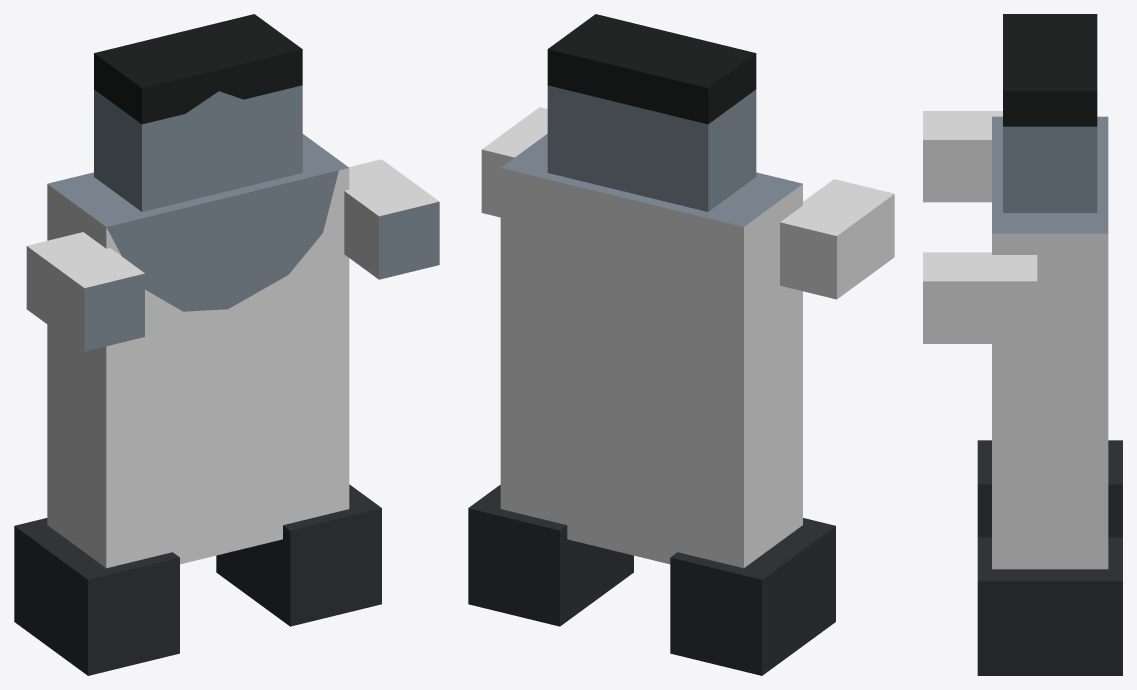
The model's file is zombie_1_textured.glb.
3 renders of one model, left to right at view 1: azimuth 30°, elevation 25°; view 2: azimuth 150°, elevation 25°; view 3: azimuth 270°, elevation 25°, orthographic.
Parts seen in each view (by area): view 1: torso, head, foot_right, foot_left, Cube, Cube.001; view 2: torso, head, foot_right, foot_left, Cube, Cube.001; view 3: torso, head, foot_left, Cube.001, Cube, foot_right.
Boxes of the visible parts, box(x1,y1,x2,y2) form: torso: box(47, 134, 349, 568); head: box(94, 14, 302, 211); foot_right: box(14, 518, 179, 675); foot_left: box(216, 484, 381, 626); Cube: box(26, 232, 144, 351); Cube.001: box(344, 159, 439, 279); torso: box(500, 134, 802, 568); head: box(547, 14, 756, 211); foot_right: box(670, 518, 835, 675); foot_left: box(468, 484, 633, 626); Cube: box(780, 179, 894, 299); Cube.001: box(481, 107, 547, 217); torso: box(992, 116, 1108, 569); head: box(1003, 14, 1097, 212); foot_left: box(977, 537, 1122, 675); Cube.001: box(923, 252, 1037, 343); Cube: box(923, 111, 1002, 202); foot_right: box(977, 440, 1122, 537).
Size of the model in its own units: 4.43 by 6.69 by 2.19.
